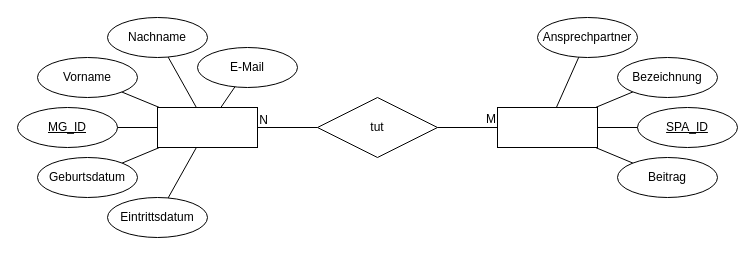
Image size: 755x255. Some labels were removed from this diagram. The shapes that lost their labels are listed below. From the top down, each one's centre as x and y in pixels, then its label:
At pixel 207 127: "Mitglied".
At pixel 547 127: "Sportart".
